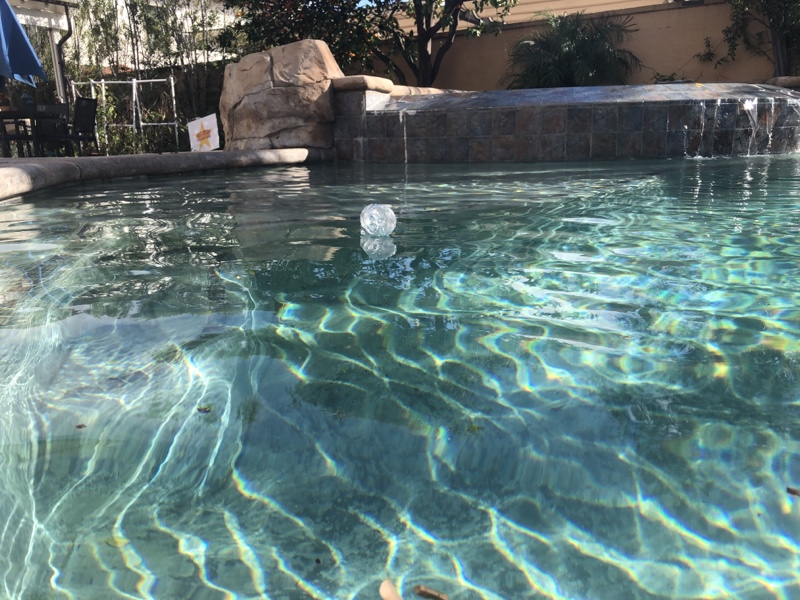Plastic Bottle: (357, 198, 396, 237)
